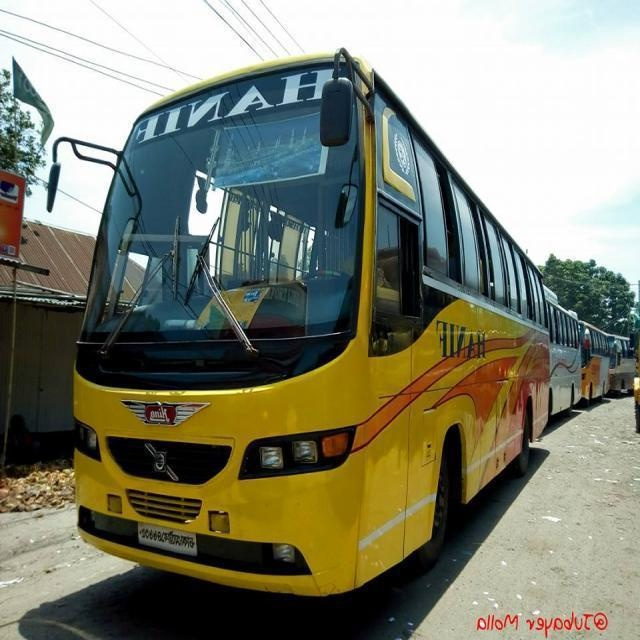bus: (34, 41, 556, 606)
